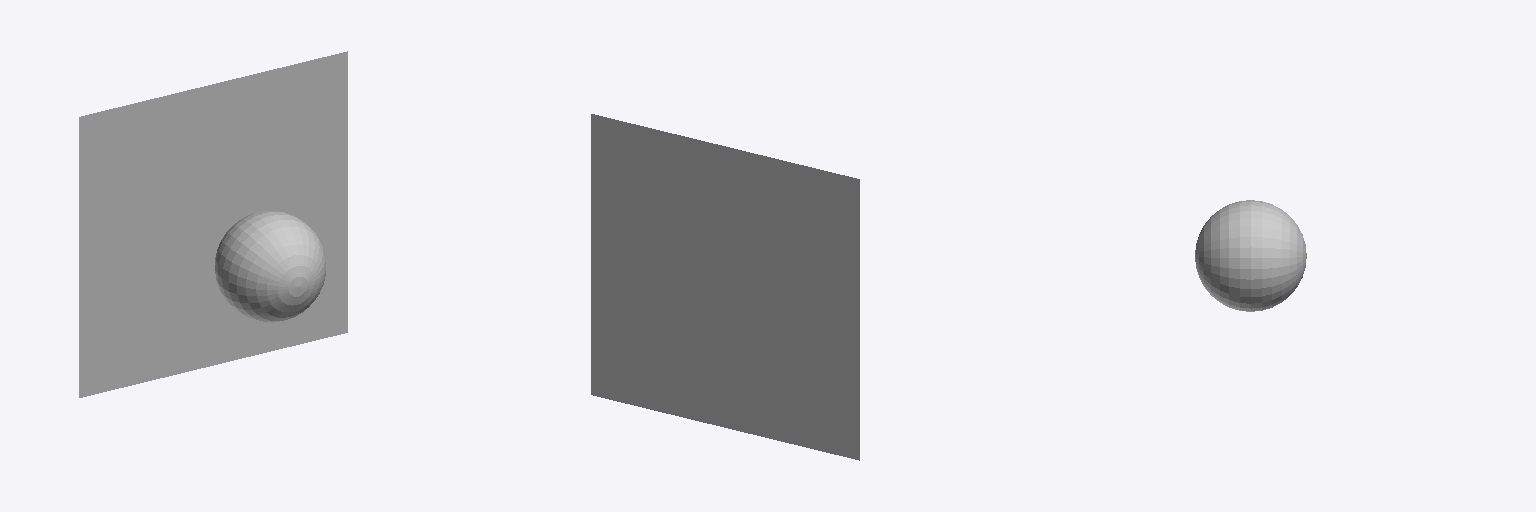
File: ball.obj
3 views of the same model, side by side, from view 1: azimuth 30°, elevation 25°; view 2: azimuth 150°, elevation 25°; view 3: azimuth 270°, elevation 25° (orthographic).
Visible parts, largest first — view 1: Plane, Sphere; view 2: Plane; view 3: Sphere.
Boxes of the visible parts, x1=… form: Plane: x1=79, y1=51, x2=347, y2=397; Sphere: x1=215, y1=211, x2=325, y2=322; Plane: x1=591, y1=114, x2=859, y2=460; Sphere: x1=1195, y1=200, x2=1306, y2=311.
Bounding box in the file's own units: 65.76 × 65.76 × 36.06.